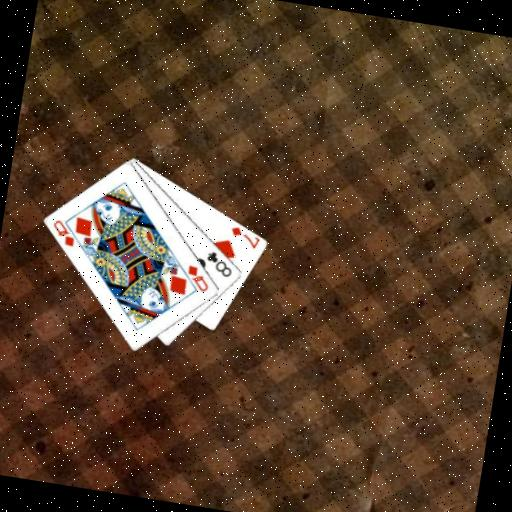7D: (226, 222, 263, 251)
8C: (201, 247, 236, 279)
QD: (47, 215, 79, 248), (182, 261, 213, 294)
